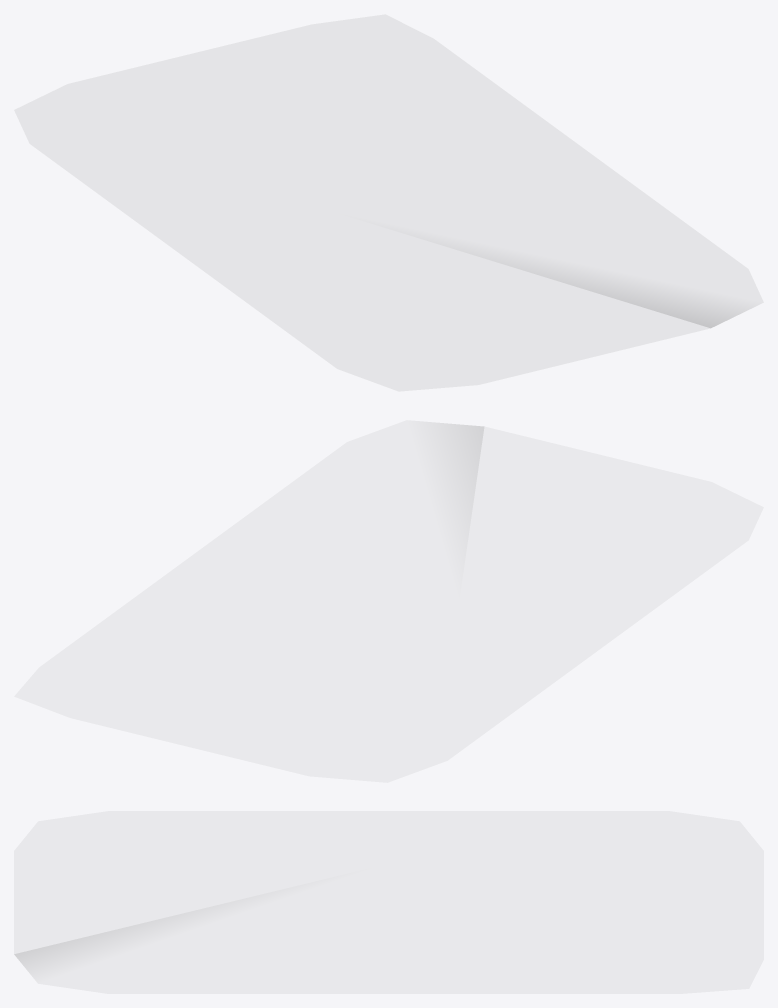
The picture shows the model from 3 angles, top to bottom: view 1: azimuth 30°, elevation 25°; view 2: azimuth 150°, elevation 25°; view 3: azimuth 270°, elevation 25°; orthographic projection. The views are drawn at different scales.
Parts seen in each view (by area): view 1: Joint_0_Object_0; view 2: Joint_0_Object_0; view 3: Joint_0_Object_0.
Part boxes in pixels (box(x1,y1,x2,y2)): Joint_0_Object_0: box(450, 247, 746, 327); Joint_0_Object_0: box(429, 422, 484, 548); Joint_0_Object_0: box(14, 893, 268, 974).
Bounding box in the file's own units: 206 × 5.61 × 357.
Materials: 1 (1 with a texture image).
